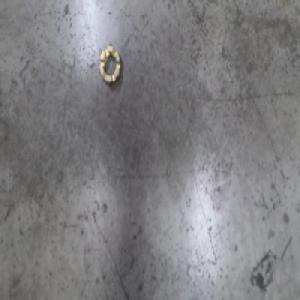Nut: (97, 42, 122, 86)
